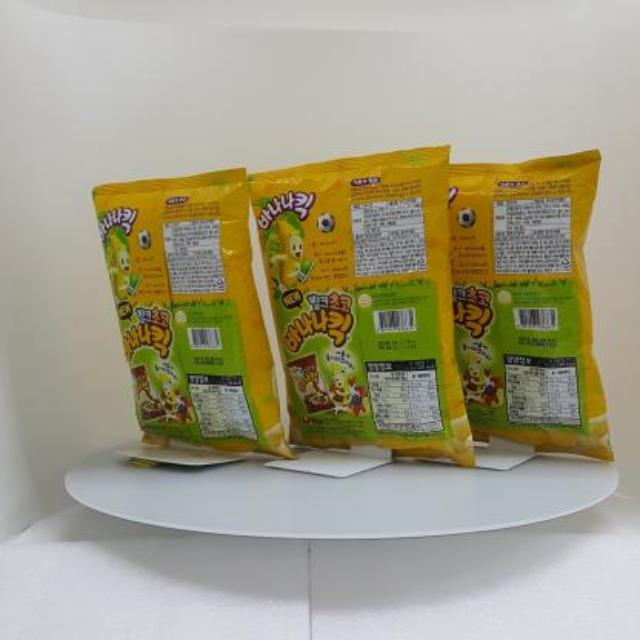snack_bag: (84, 139, 632, 491)
